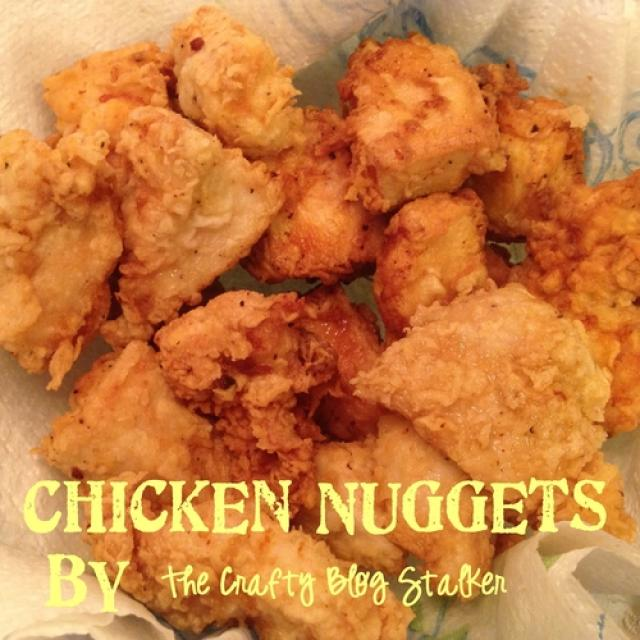鸡肉料理 含炸鸡: (5, 18, 634, 623)
